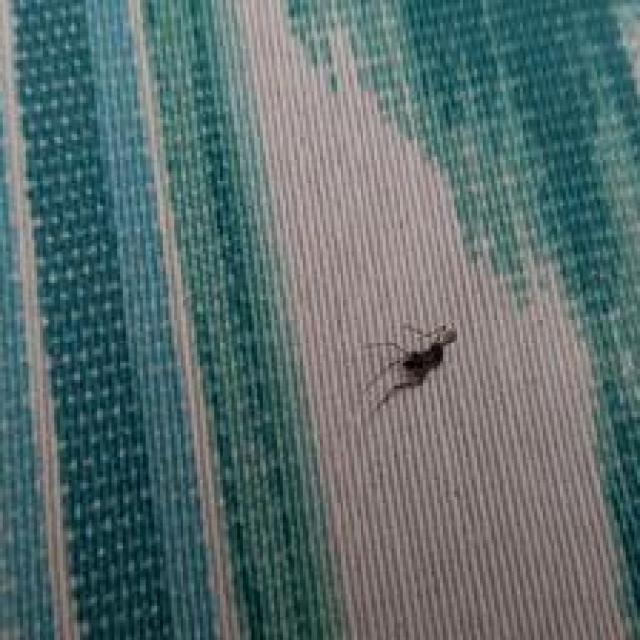Aedes albopictus: (362, 320, 458, 411)
